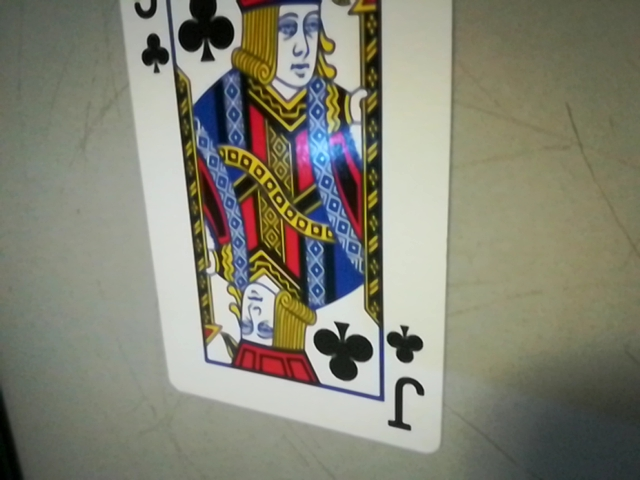mh j: (125, 0, 171, 82)
